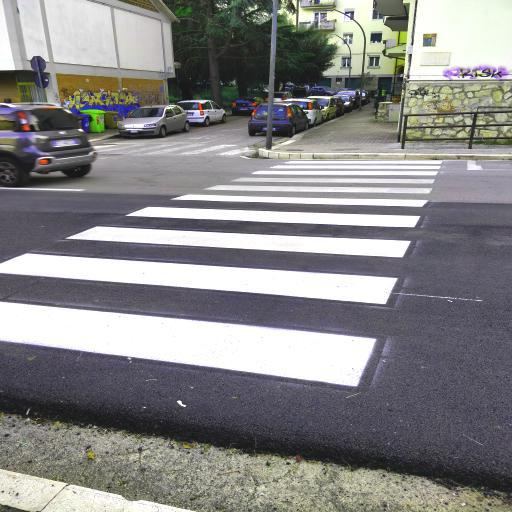crosswalk: (56, 202, 429, 262), (245, 162, 446, 179)
